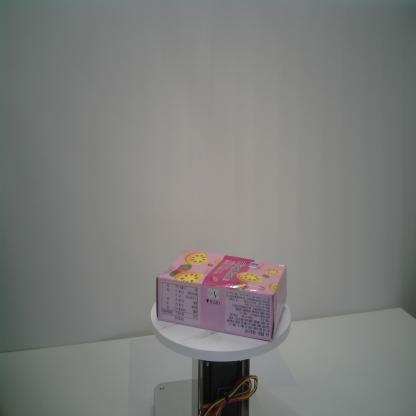Dessert: (154, 248, 289, 343)
